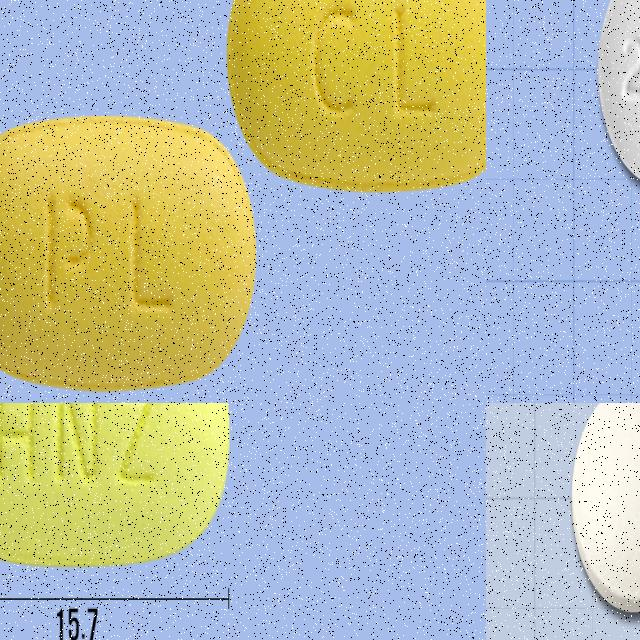Ciproctan - 500mg: (568, 403, 640, 623)
Cipurocin: (594, 0, 640, 201)
Claniz - 500mg: (0, 403, 234, 570)
Clathro: (0, 108, 259, 397), (226, 0, 486, 194)
